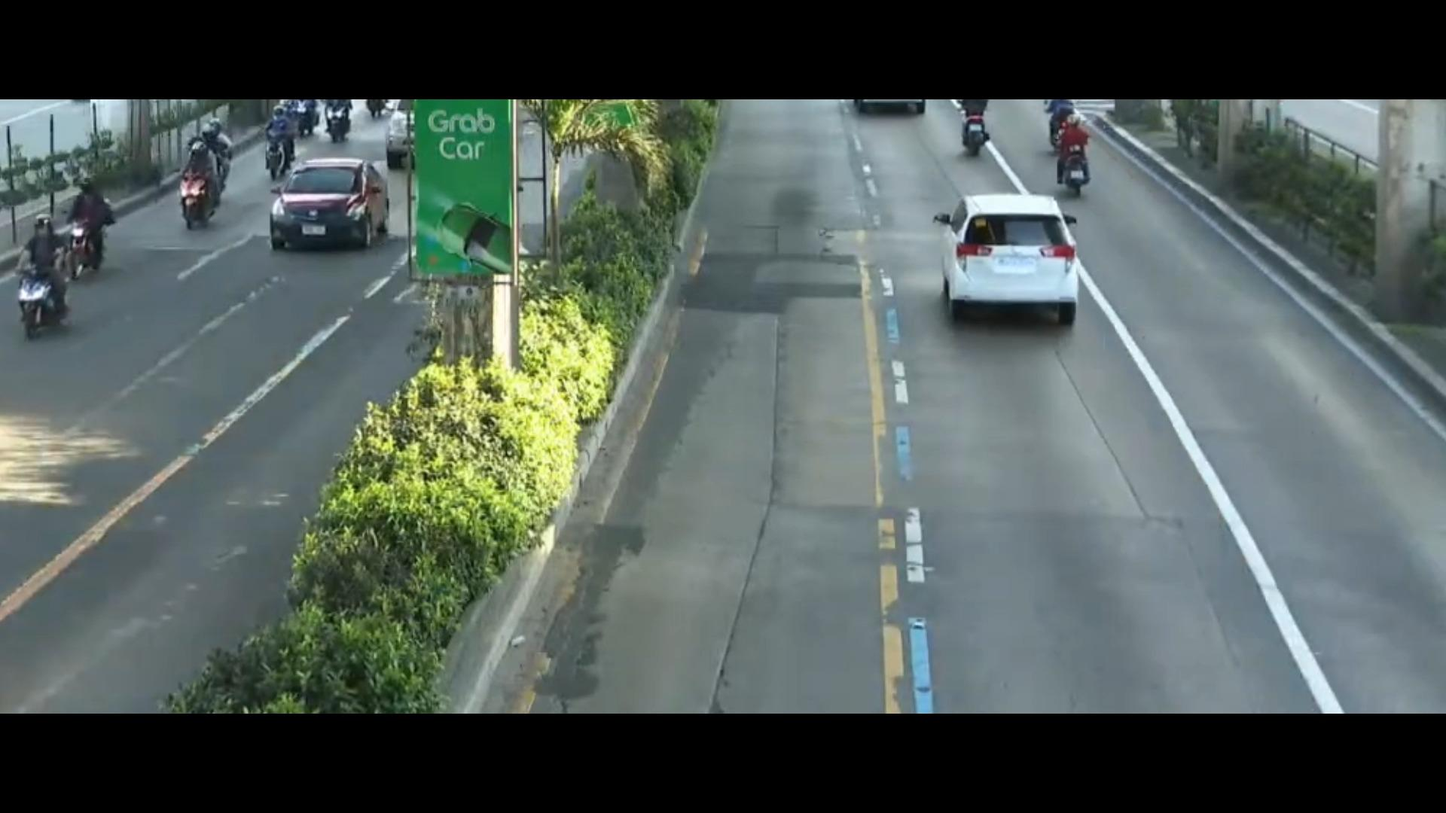Motorcycle: (0, 214, 91, 338), (55, 171, 126, 286), (167, 131, 236, 236), (1046, 116, 1115, 196), (244, 93, 294, 190), (1027, 98, 1100, 153), (927, 103, 997, 159), (316, 93, 362, 149)
SUV: (921, 189, 1085, 346)
Sedan: (258, 144, 395, 258)
